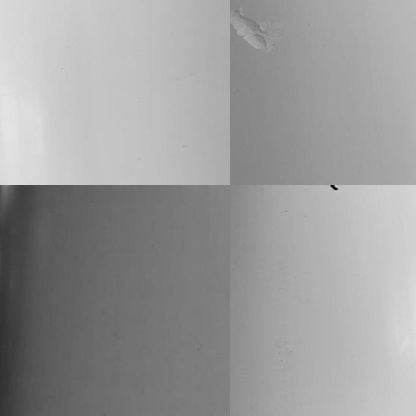kongdong: (328, 182, 340, 194)
sunshang: (231, 10, 271, 54)
